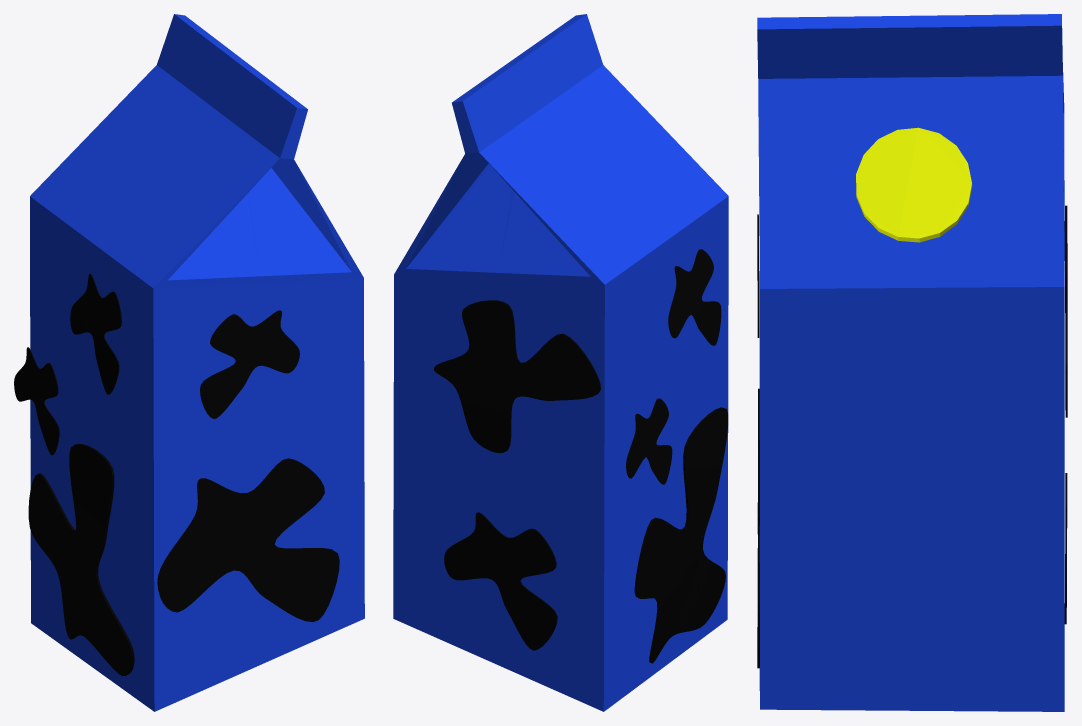
Rendered from bend_low_0.obj.
3 views of the same model, side by side, from view 1: azimuth 30°, elevation 25°; view 2: azimuth 150°, elevation 25°; view 3: azimuth 270°, elevation 25° (orthographic). The views are drawn at different scales.
Visible parts, largest first — view 1: model; view 2: model; view 3: model.
Part boxes in pixels (x1,y1,x2,y2): model: (14,14,364,711); model: (393,14,728,711); model: (757,14,1067,711).
Size of the model in its own units: 0.0872 by 0.2062 by 0.0819.
Materials: 1 (1 with a texture image).
